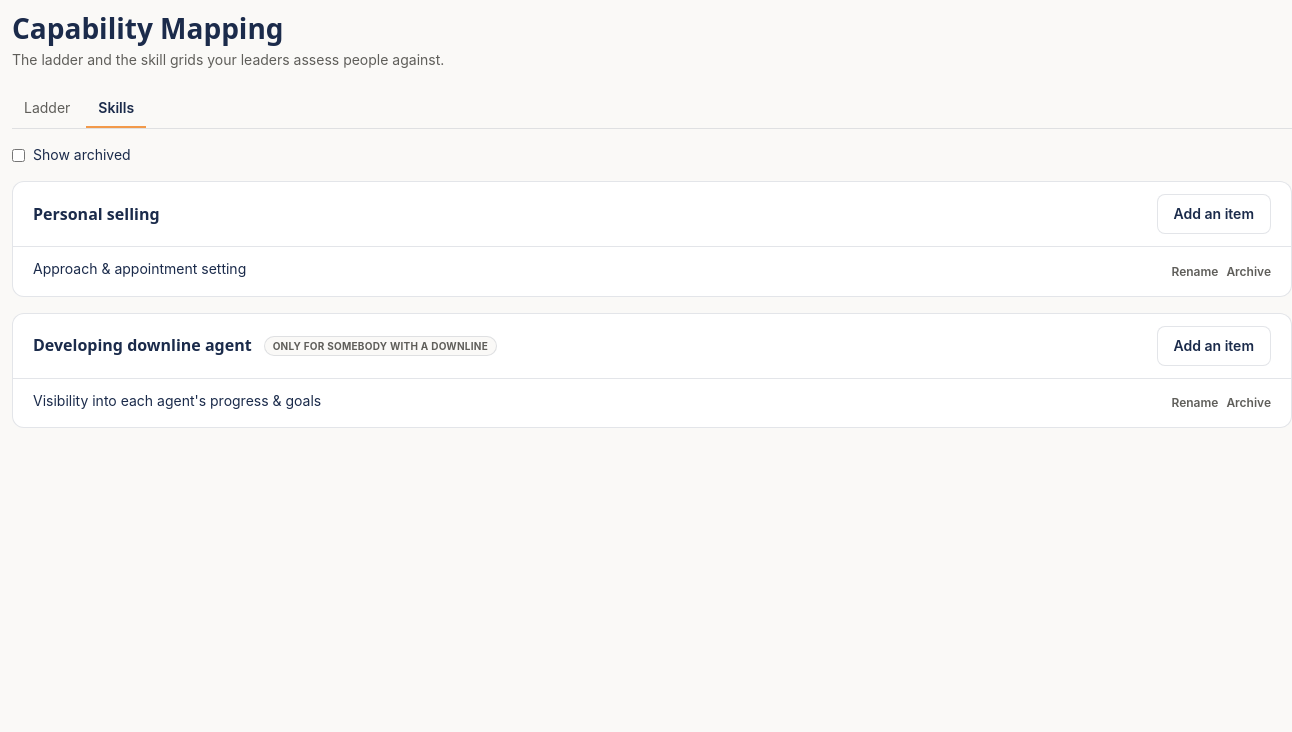
the capability catalog screen › fills a new item’s code in from its name
This screenshot has width=1292, height=732.
Expected: the heading "Personal selling" is shown, left=33, top=203, right=160, bottom=226
Click the button "Add an item" in the row of "Personal selling" at (1214, 214), box left=1156, top=194, right=1271, bottom=234
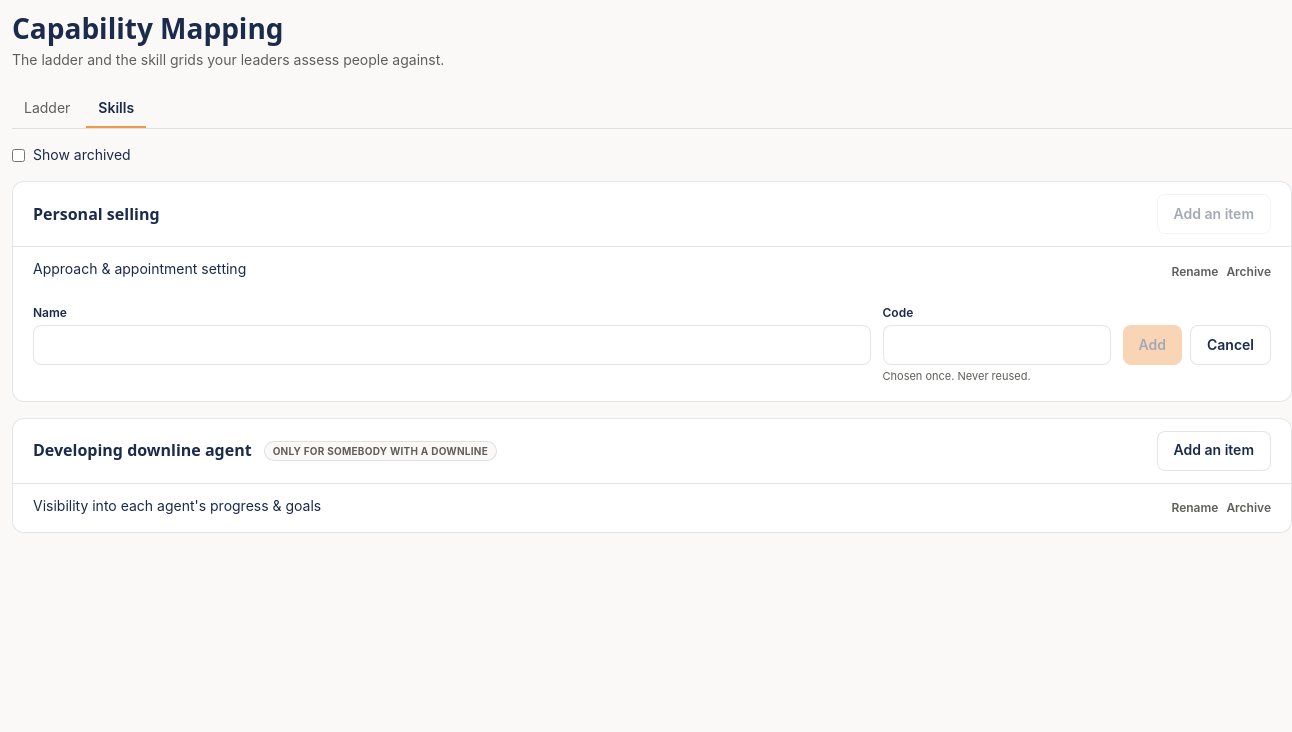
Type "Asking for referrals" into the field labelled "Name" at (452, 345), box left=33, top=325, right=870, bottom=365
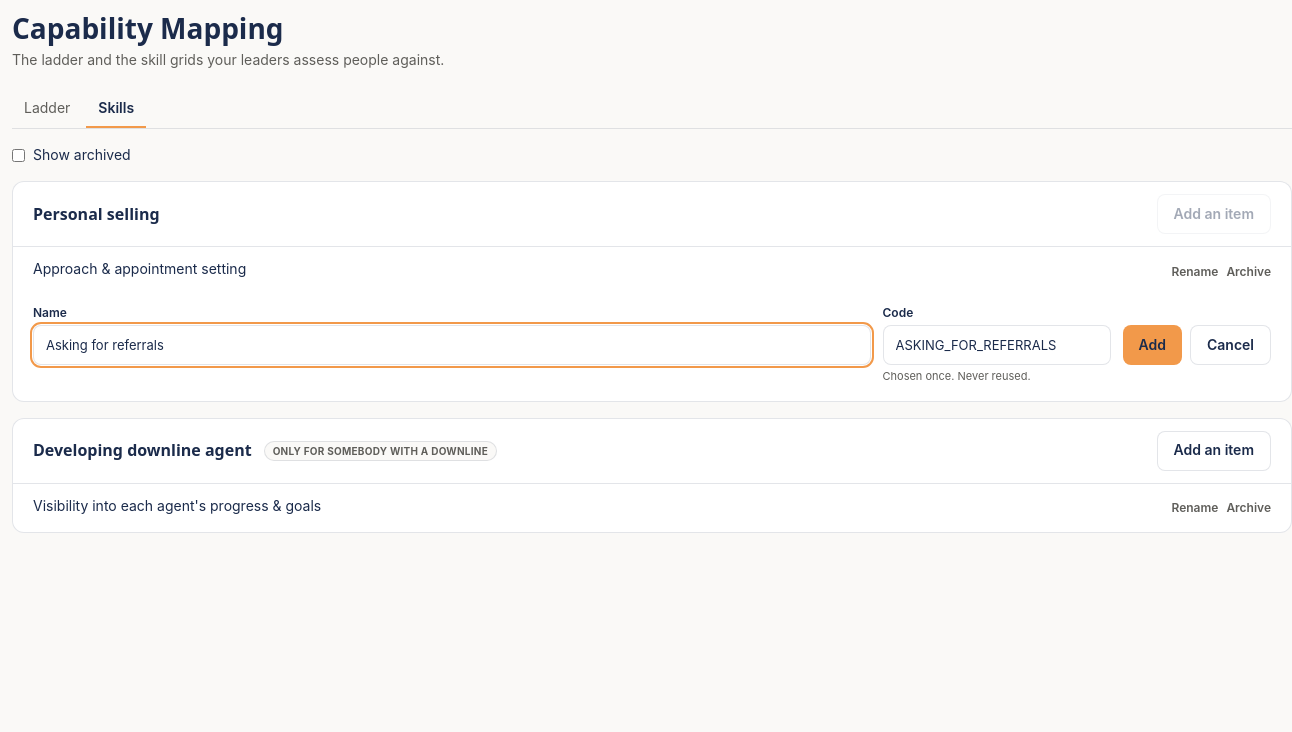
Expected: the field labelled "Code" holds "ASKING_FOR_REFERRALS", left=882, top=325, right=1110, bottom=365
